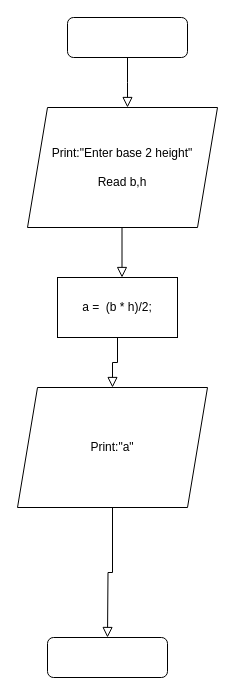
Some shapes in this 235 by 695 pixel diagram are drawn without their labels. The shapes that lost their labels are listed below. From the top down, each one's box as (x1, y1, x2, y2) in pixels, then its label:
(66, 16, 188, 58): Start
(46, 636, 168, 678): End
